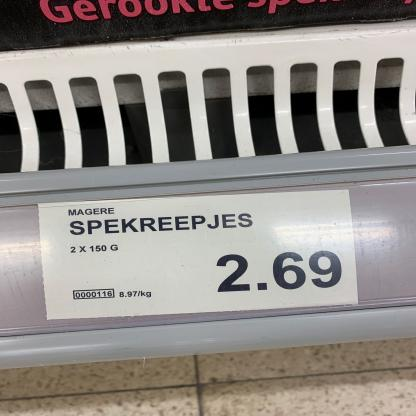prtg: (39, 190, 359, 321)
